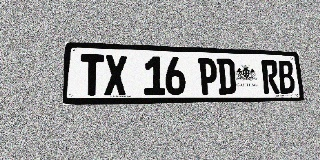1: (144, 56, 165, 95)
6: (165, 57, 186, 95)
B: (277, 60, 296, 94)
D: (217, 58, 236, 94)
P: (198, 58, 218, 95)
R: (261, 60, 280, 94)
T: (80, 54, 104, 96)
X: (104, 55, 127, 96)
